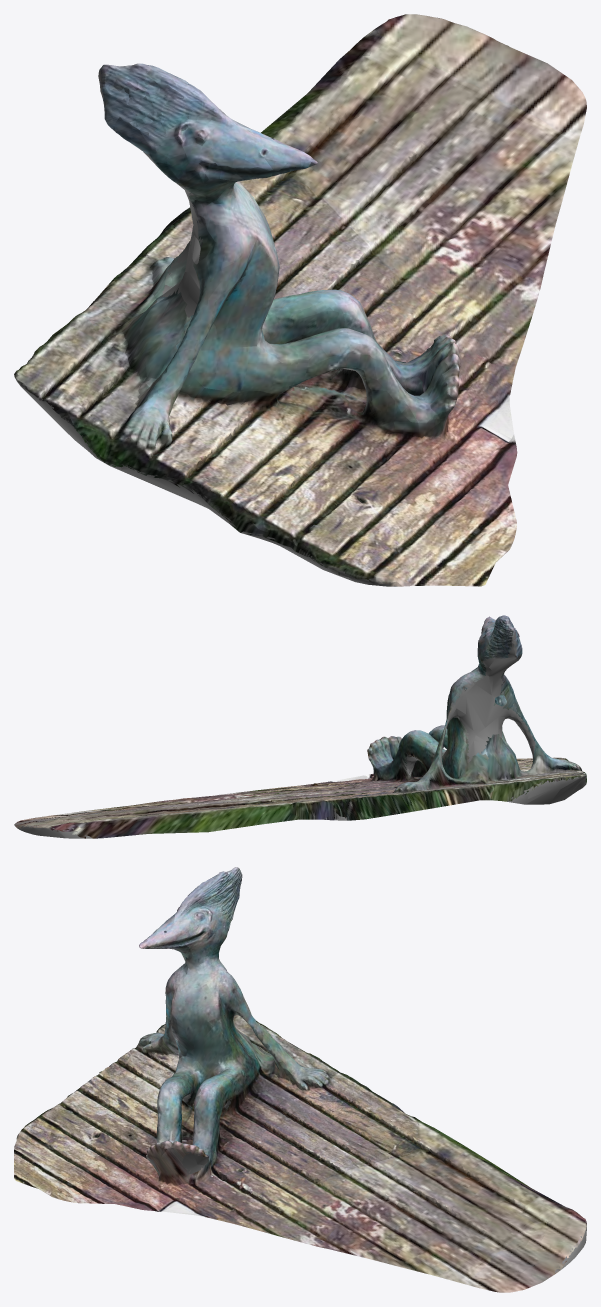
The model's file is geinVogel2.obj.
The picture shows the model from 3 angles, top to bottom: view 1: azimuth 30°, elevation 25°; view 2: azimuth 150°, elevation 25°; view 3: azimuth 270°, elevation 25°; orthographic projection. The views are drawn at different scales.
Visible parts, largest first — view 1: default; view 2: default; view 3: default.
Boxes of the visible parts, left/top/right/bottom form: default: left=14, top=14, right=586, bottom=586; default: left=14, top=615, right=586, bottom=838; default: left=14, top=867, right=586, bottom=1292.
Bounding box in the file's own units: 33.52 × 16.99 × 34.02.
2 materials, 1 textured.
